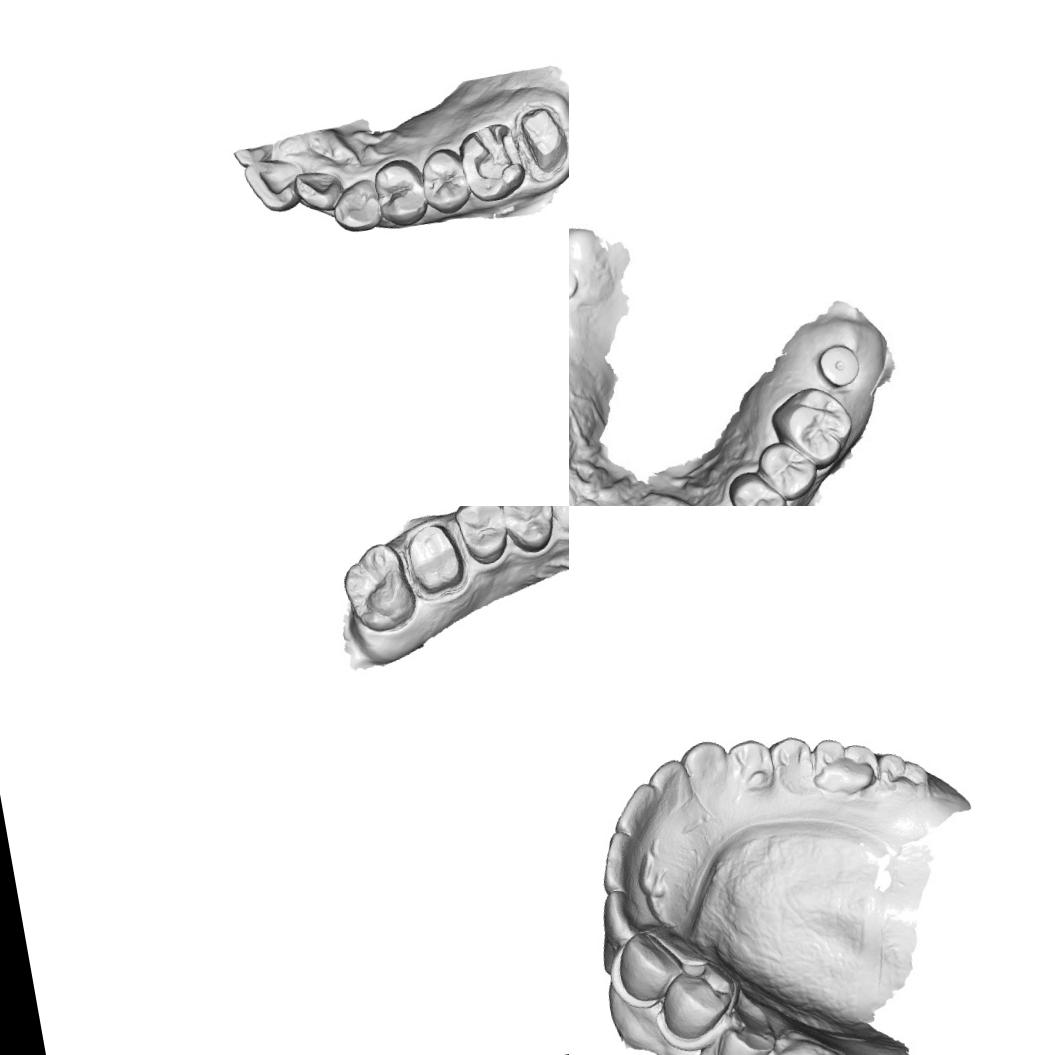canine: (612, 926, 690, 1008), (677, 734, 739, 803), (326, 176, 384, 236)
crown: (400, 518, 468, 598), (515, 101, 569, 177)
implant: (812, 338, 865, 395), (569, 254, 584, 310)
incisor: (241, 152, 310, 218), (592, 825, 655, 892), (608, 778, 665, 835), (598, 888, 652, 945), (290, 164, 346, 216), (643, 755, 692, 810)
inlay: (462, 120, 524, 188)
molar: (766, 378, 856, 479), (335, 537, 419, 638), (804, 728, 882, 803), (868, 744, 935, 806), (750, 1029, 857, 1055)
premolar: (660, 965, 738, 1036), (368, 154, 431, 230), (416, 143, 475, 218), (450, 506, 512, 568), (724, 730, 780, 796), (759, 439, 814, 500), (497, 506, 559, 557), (767, 733, 816, 788), (708, 1015, 775, 1055), (727, 467, 789, 506)
